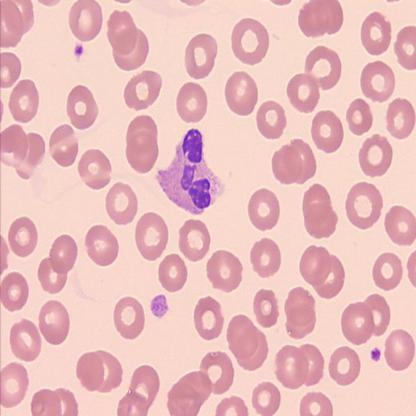Segmented neutrophil: (154, 125, 226, 219)
